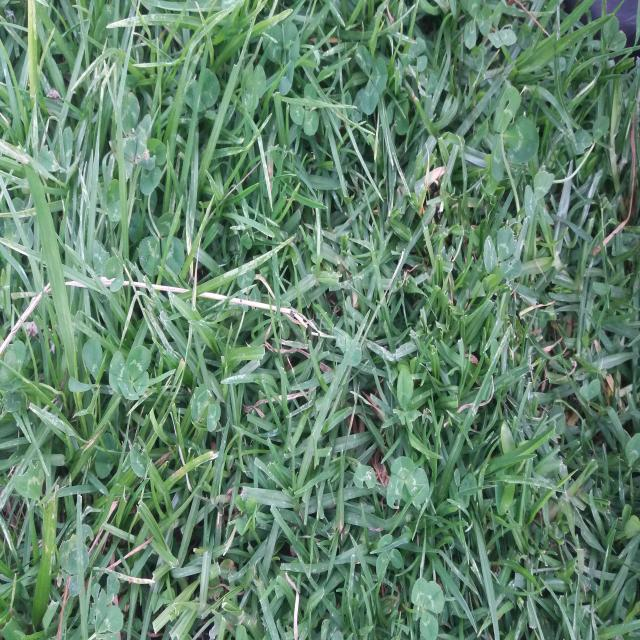Four Leaf Clover: (109, 345, 151, 400), (399, 424, 427, 461)
